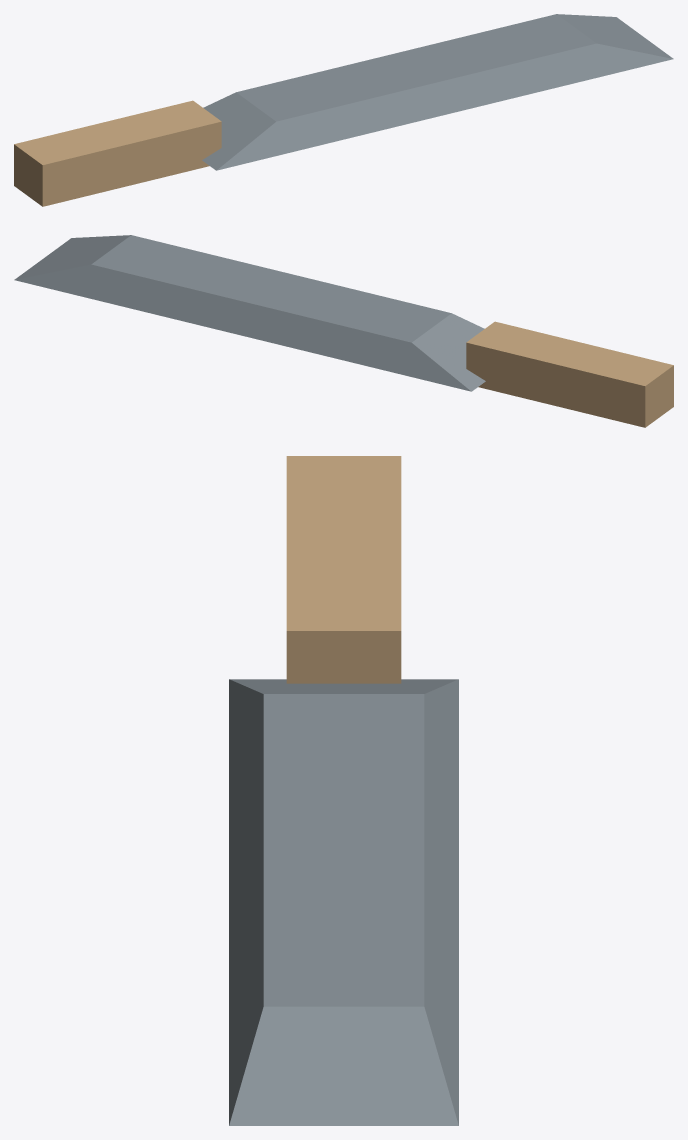
Rendered from item_118_steel_edge_s.glb.
3 views of the same model, one above another, from view 1: azimuth 30°, elevation 25°; view 2: azimuth 150°, elevation 25°; view 3: azimuth 270°, elevation 25° (orthographic). The views are drawn at different scales.
Parts seen in each view (by area): view 1: item_118_steel_edge_s; view 2: item_118_steel_edge_s; view 3: item_118_steel_edge_s.
Part boxes in pixels (box(x1,y1,x2,y2)): item_118_steel_edge_s: box(14, 14, 673, 206); item_118_steel_edge_s: box(14, 235, 673, 427); item_118_steel_edge_s: box(229, 456, 458, 1125).
Bounding box in the file's own units: 0.62 × 0.04 × 0.1.
